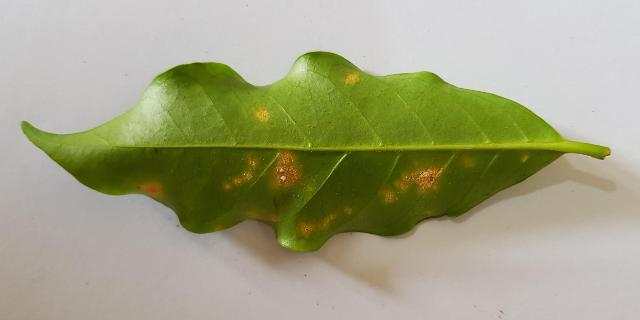miner: (380, 162, 445, 202), (262, 149, 305, 192), (222, 157, 258, 191), (297, 212, 337, 237), (246, 210, 281, 223), (140, 182, 162, 196), (256, 108, 269, 121), (462, 157, 476, 167), (345, 73, 358, 83), (344, 207, 352, 215), (522, 155, 528, 161), (215, 227, 222, 231)
